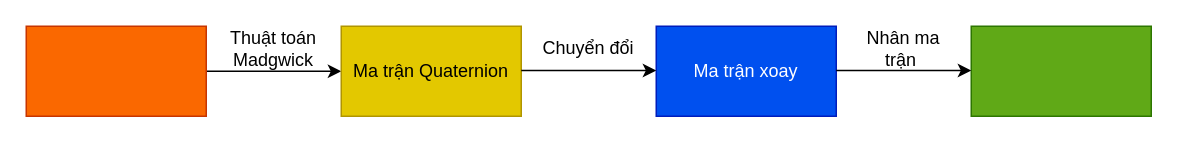
The diagram is 1178 pixels wide and 143 high, and some of its shapes have lost their labels. Here are the shapes that lost their labels. From the top down, the box of each, then its label:
(25, 25, 206, 116): Tín hiệu từ IMU, MARG
(970, 25, 1151, 116): Vị trí cuối
